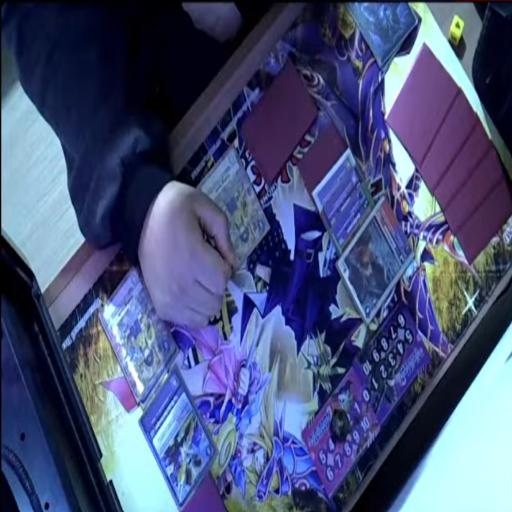card: (140, 367, 216, 509), (100, 268, 176, 401), (337, 197, 413, 323), (199, 149, 269, 267), (330, 184, 372, 255), (312, 148, 354, 210), (321, 167, 362, 229)
